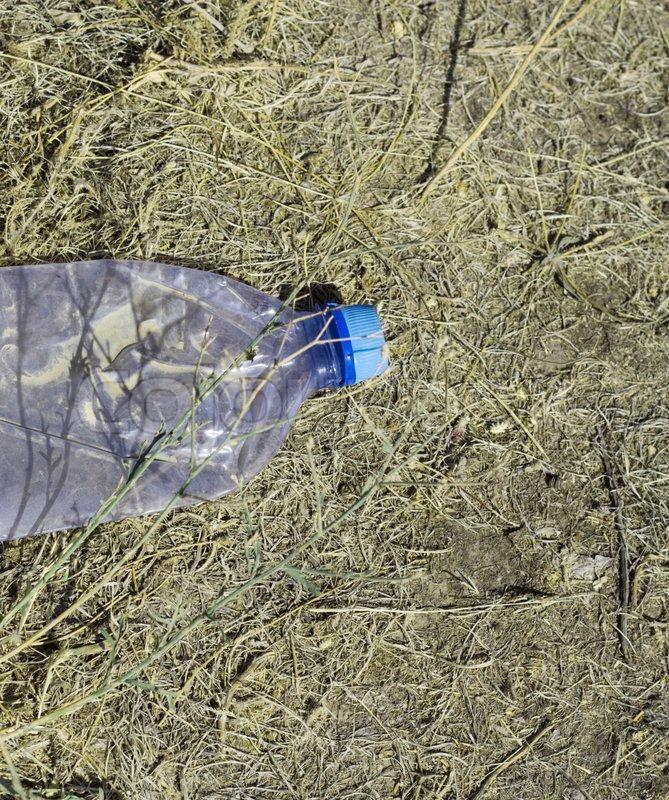bottle: (0, 218, 408, 564)
